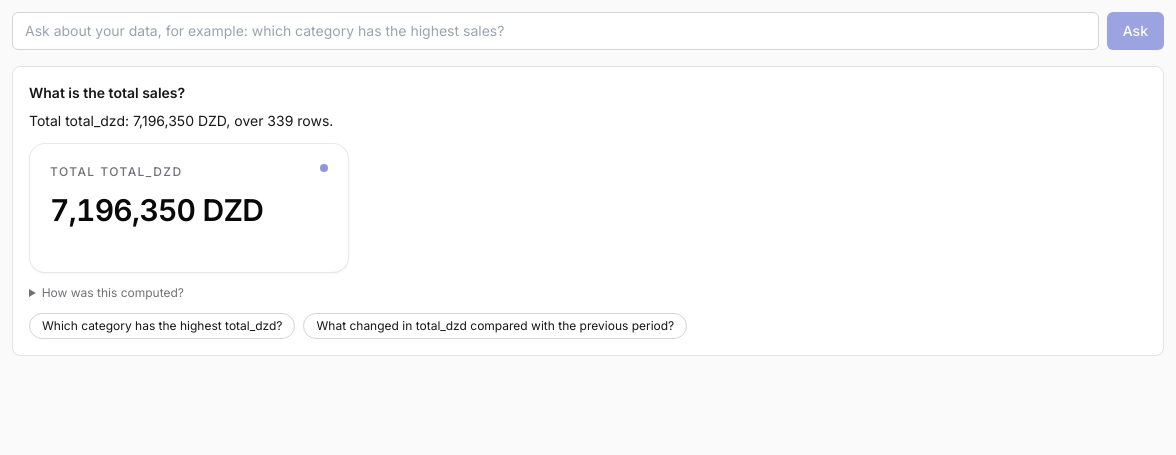
Test case: Ask › renders a number answer with the evidence behind it
expect the text "Total total_dzd: 7,196,350 DZD, over 339 rows." is shown: met, box top-left (29, 112), bottom-right (333, 129)
Click the heading "How was this computed?".
click(113, 292)  # box top-left (42, 285), bottom-right (184, 300)
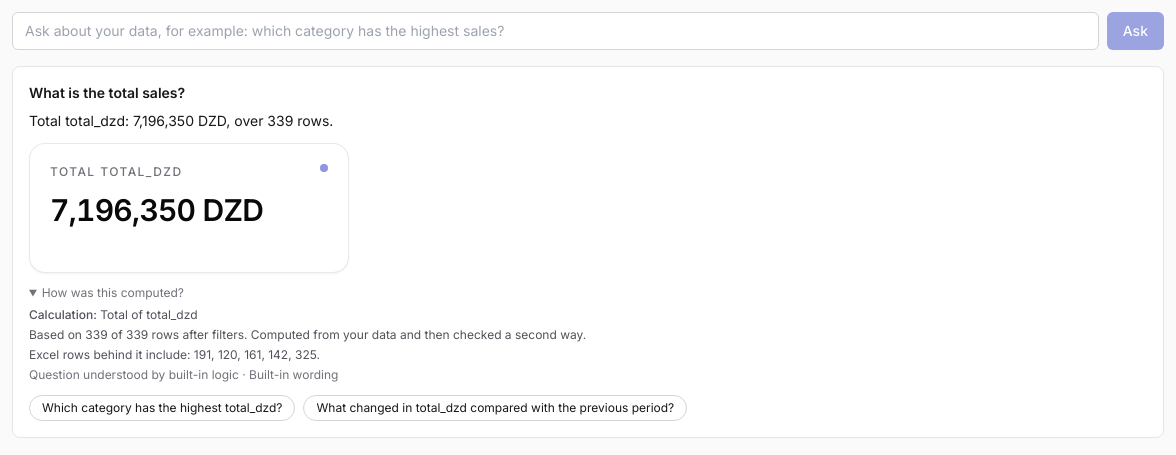
expect the text "Computed from your data and then checked a second way" is shown: met, box top-left (148, 327), bottom-right (586, 342)
expect the text "Question understood by built-in logic · Built-in wording" is shown: met, box top-left (29, 367), bottom-right (338, 382)
